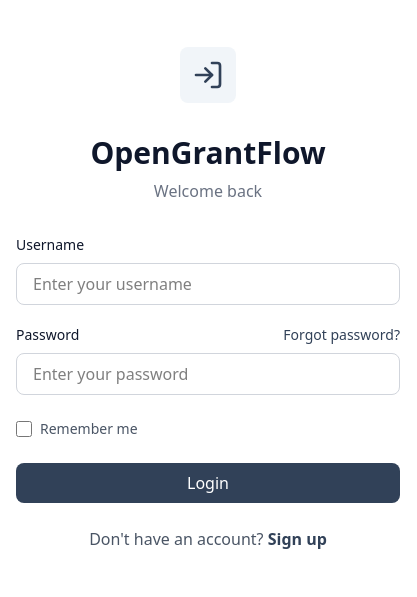
Test: Login error messages › shows a generic invalid-credentials message on a 401
The image size is (417, 597).
Step 1. Type "user@example.com" into the field with placeholder "Enter your username" → x=208, y=284, box x1=16 y1=263 x2=400 y2=305
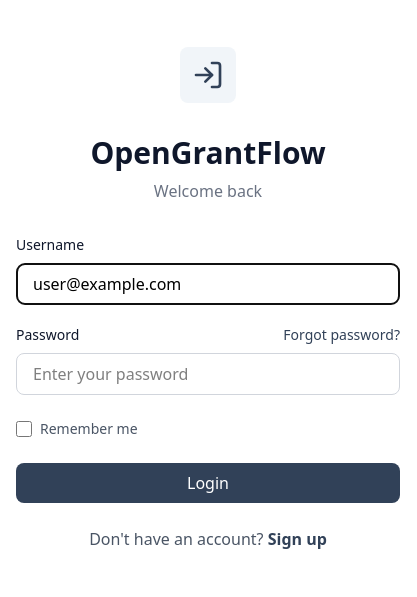
Step 2. Type "whatever" into the password field with placeholder "Enter your password" → x=208, y=374, box x1=16 y1=353 x2=400 y2=395
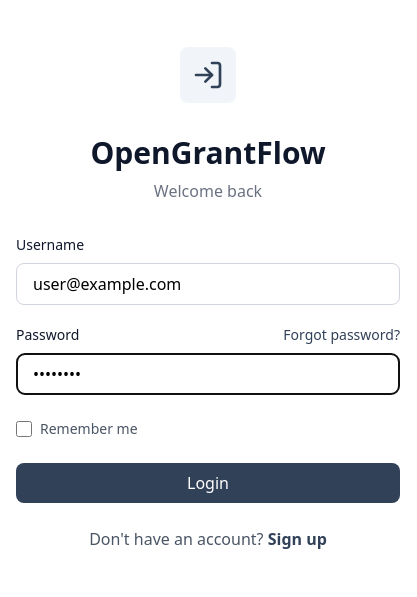
Step 3. Click the button "Login" → x=208, y=483, box x1=16 y1=463 x2=400 y2=503
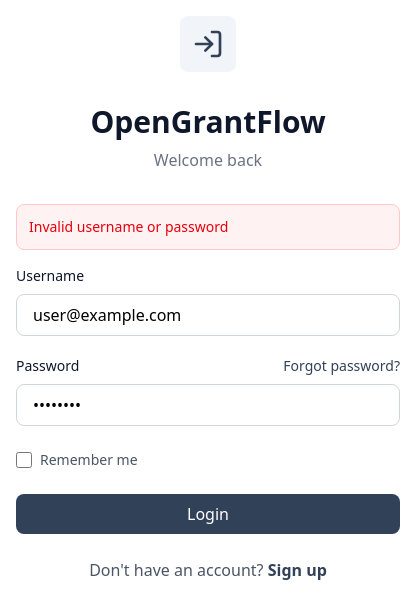
Expected: the text "Invalid username or password" is shown, x1=29 y1=217 x2=228 y2=236
